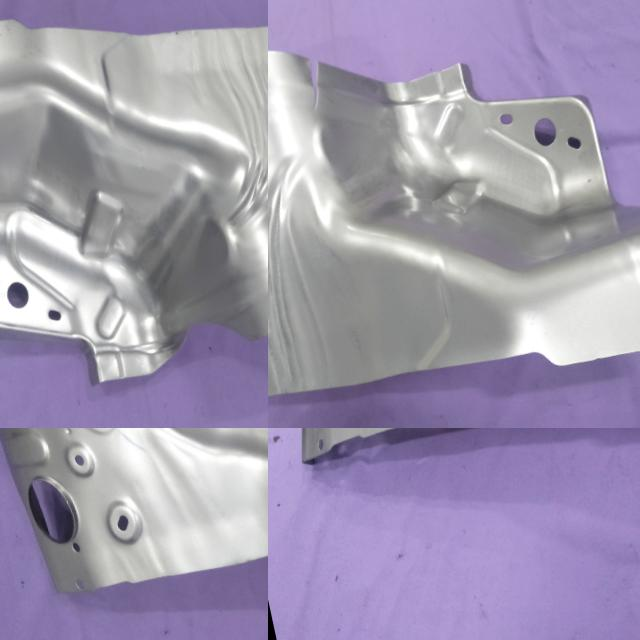Defect: (117, 294, 268, 394), (293, 46, 339, 117)
Healthy: (0, 428, 268, 637)
